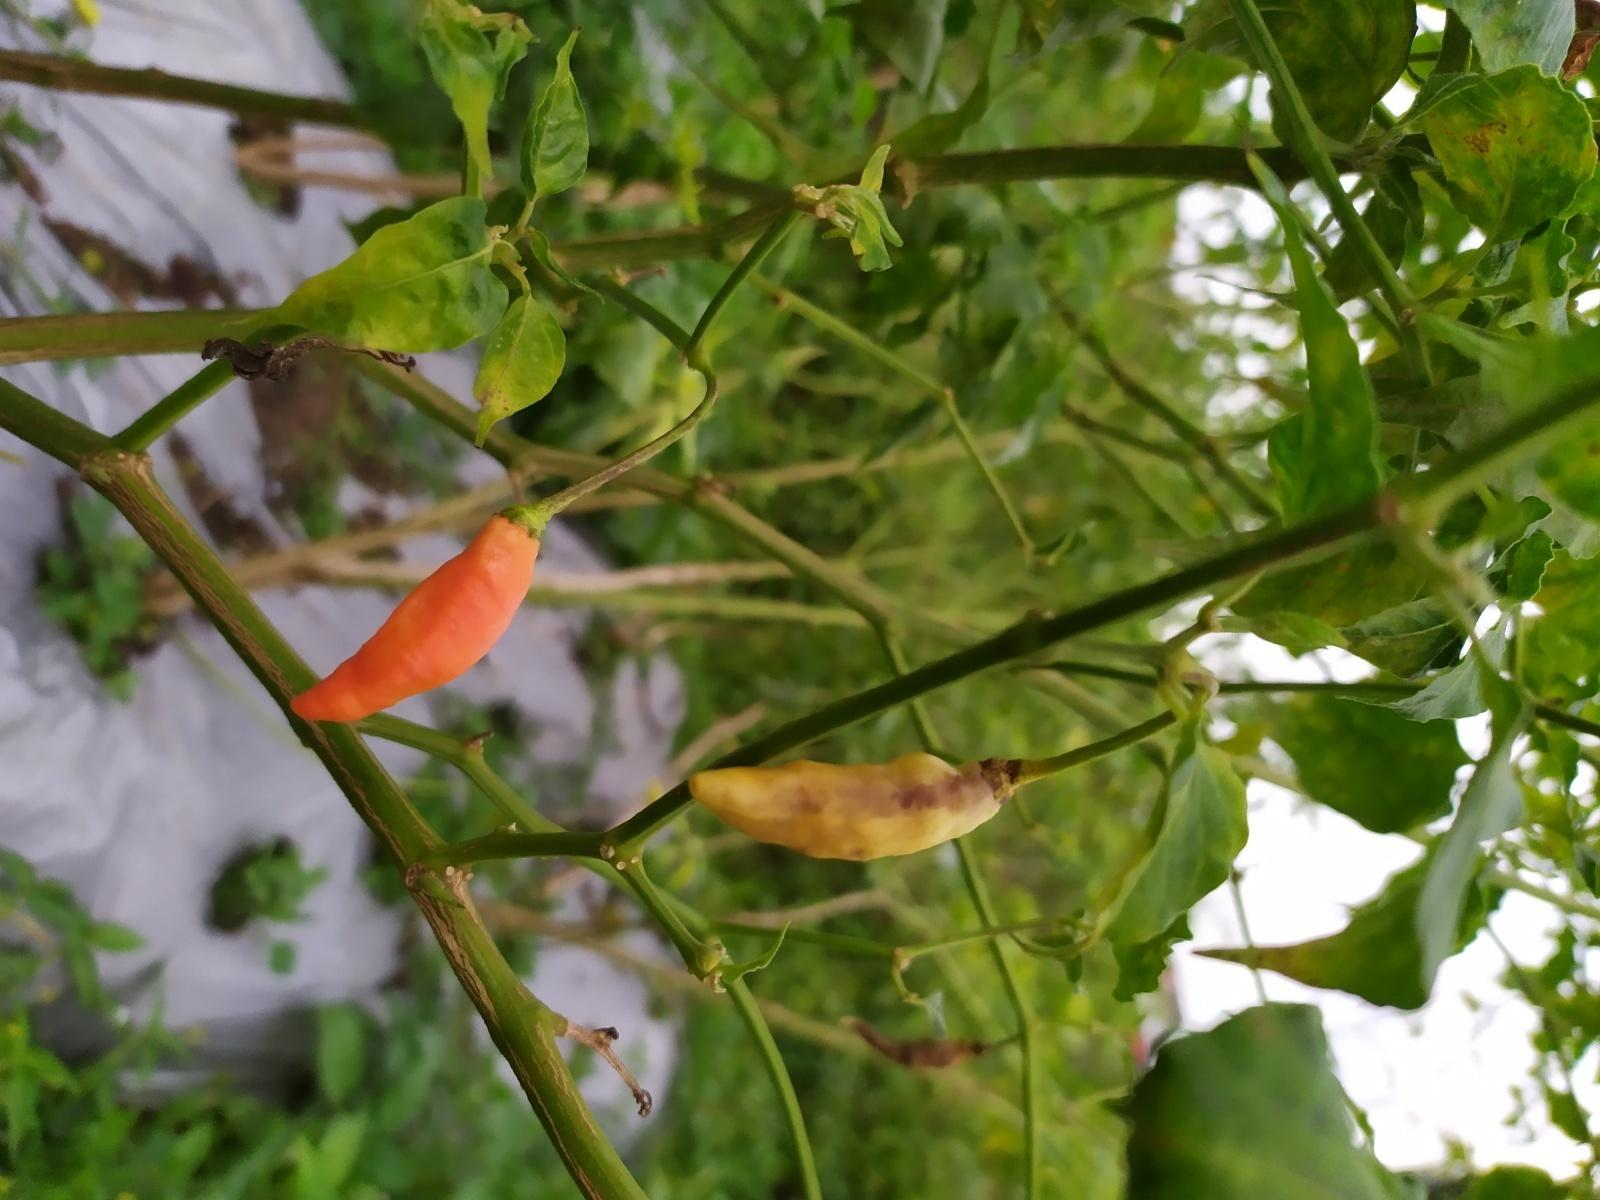cabai_normal: (287, 503, 539, 724)
lalat_buah: (687, 753, 1015, 862)
